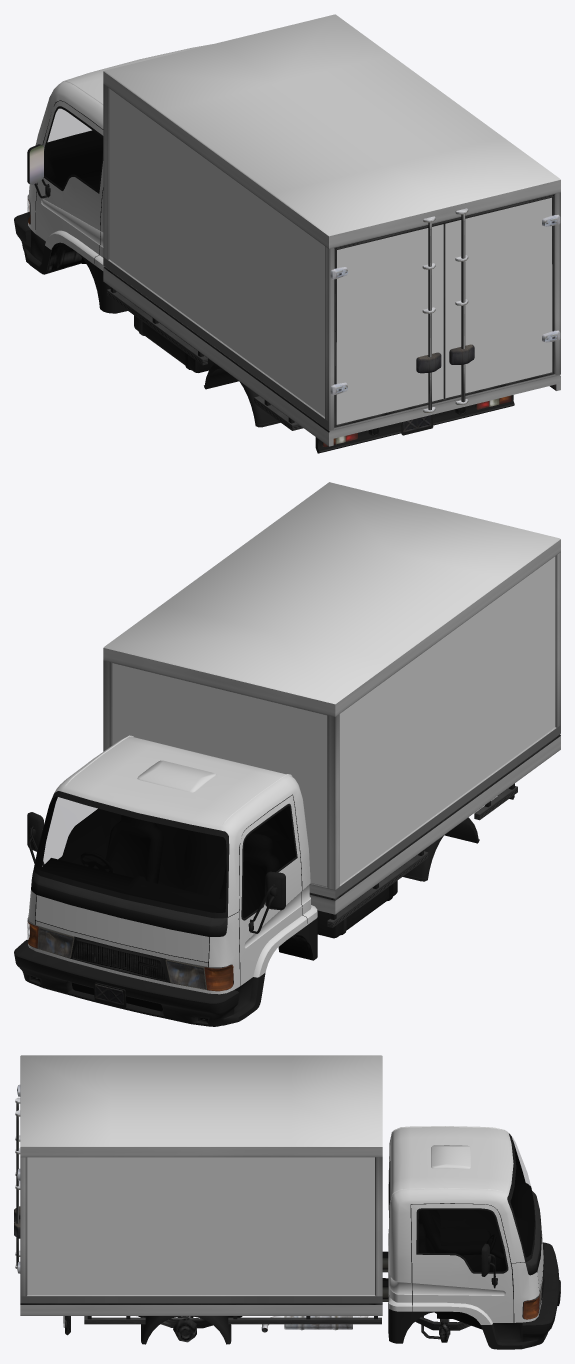
The model's file is vehicle.gltf.
3 renders of one model, top to bottom at view 1: azimuth 30°, elevation 25°; view 2: azimuth 150°, elevation 25°; view 3: azimuth 270°, elevation 25°, orthographic. The views are drawn at different scales.
Parts seen in each view (by area): view 1: body_body_0, bottom_bottom_and plastic_0, glass_glass_0, interior_void_0; view 2: body_body_0, bottom_bottom_and plastic_0, glass_glass_0, interior_void_0, lights_lights_0, lights_glass_0, grill_bottom_and plastic_0; view 3: body_body_0, bottom_bottom_and plastic_0, interior_void_0, glass_glass_0, lights_lights_0.
Part boxes in pixels (x1,y1,x2,y2): body_body_0: (28,14,560,424); bottom_bottom_and plastic_0: (14,71,560,453); glass_glass_0: (44,109,102,189); interior_void_0: (35,100,103,263); body_body_0: (28,482,560,994); bottom_bottom_and plastic_0: (14,539,560,1026); glass_glass_0: (36,797,295,917); interior_void_0: (35,794,307,985); lights_lights_0: (27,918,233,991); lights_glass_0: (27,922,232,989); grill_bottom_and plastic_0: (73,941,166,980); body_body_0: (20,1055,543,1324); bottom_bottom_and plastic_0: (14,1084,560,1349); interior_void_0: (410,1140,534,1322); glass_glass_0: (419,1137,534,1271); lights_lights_0: (523,1281,542,1319).
Size of the model in its own units: 2.56 by 2.56 by 5.84.
Materials: 7 (3 with a texture image).
